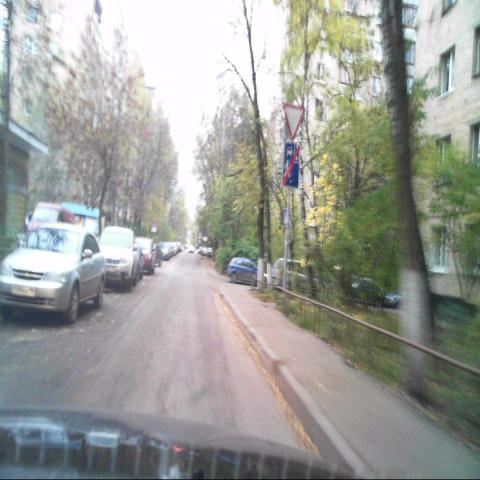5_22: (282, 143, 299, 188)
